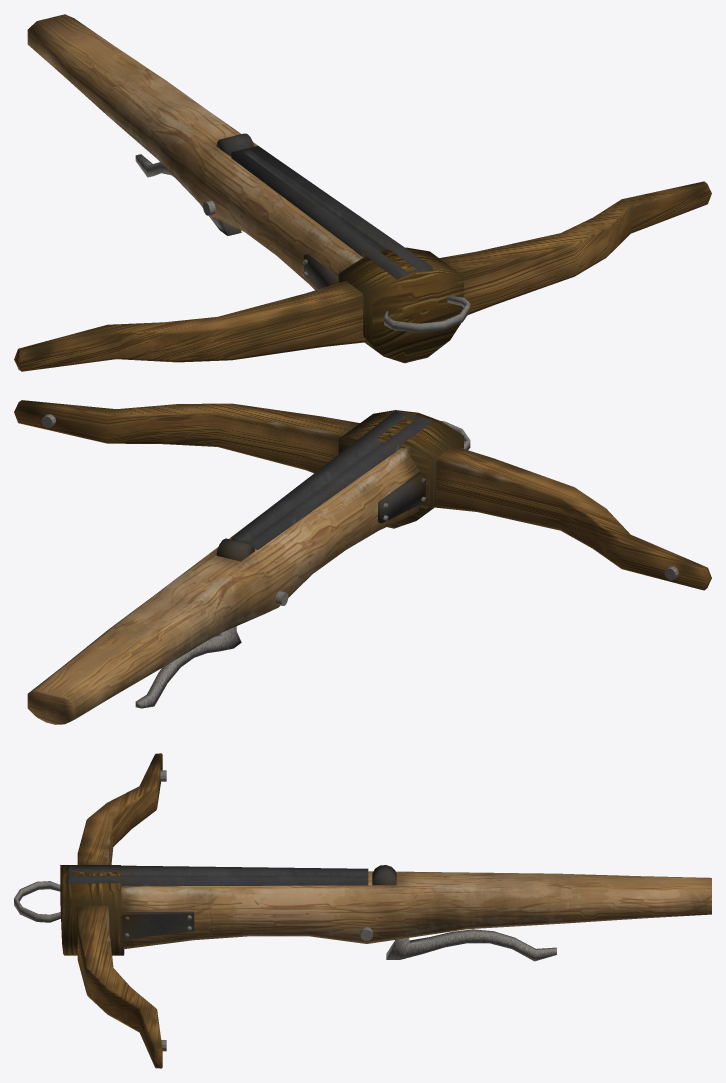
Rendered from Ballesta.fbx.
3 views of the same model, one above another, from view 1: azimuth 30°, elevation 25°; view 2: azimuth 150°, elevation 25°; view 3: azimuth 270°, elevation 25° (orthographic). The views are drawn at different scales.
Visible parts, largest first — view 1: Cube; view 2: Cube; view 3: Cube.
Part boxes in pixels (x1,y1,x2,y2): Cube: (14,14,711,371); Cube: (14,400,711,724); Cube: (14,753,711,1068).
Size of the model in its own units: 850 by 119 by 836.
Materials: 1 (1 with a texture image).
